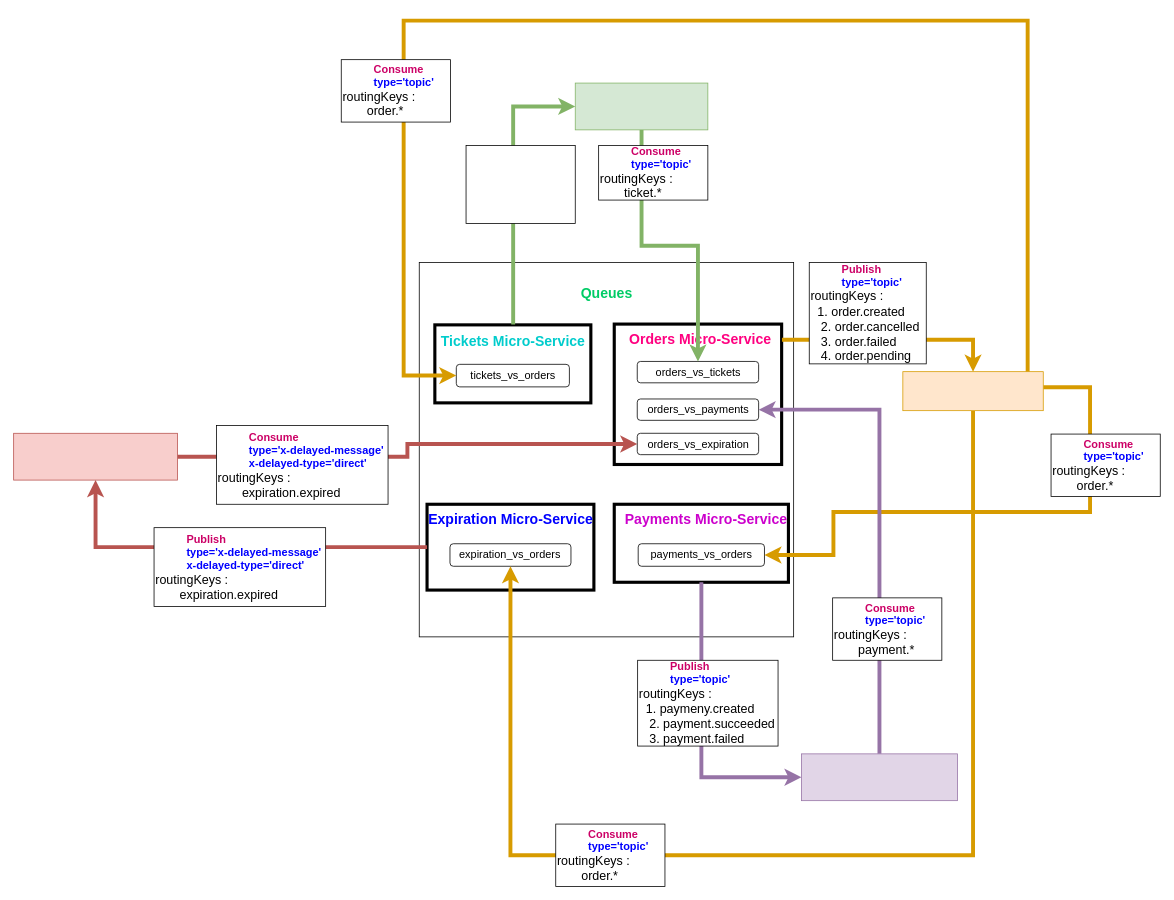
Some shapes in this 1174 by 900 pixel diagram are drawn without their labels. The shapes that lost their labels are listed below. From the top down, each one's centre as x and y in pixels, then its label:
[641,106]: tickets_exchange
[520,184]: Publish type='topic' routingKeys : 1. ticket.created 2. ticket.updated
[972,391]: orders_exchange
[95,456]: expiration_exchange
[879,777]: payments_exchange
